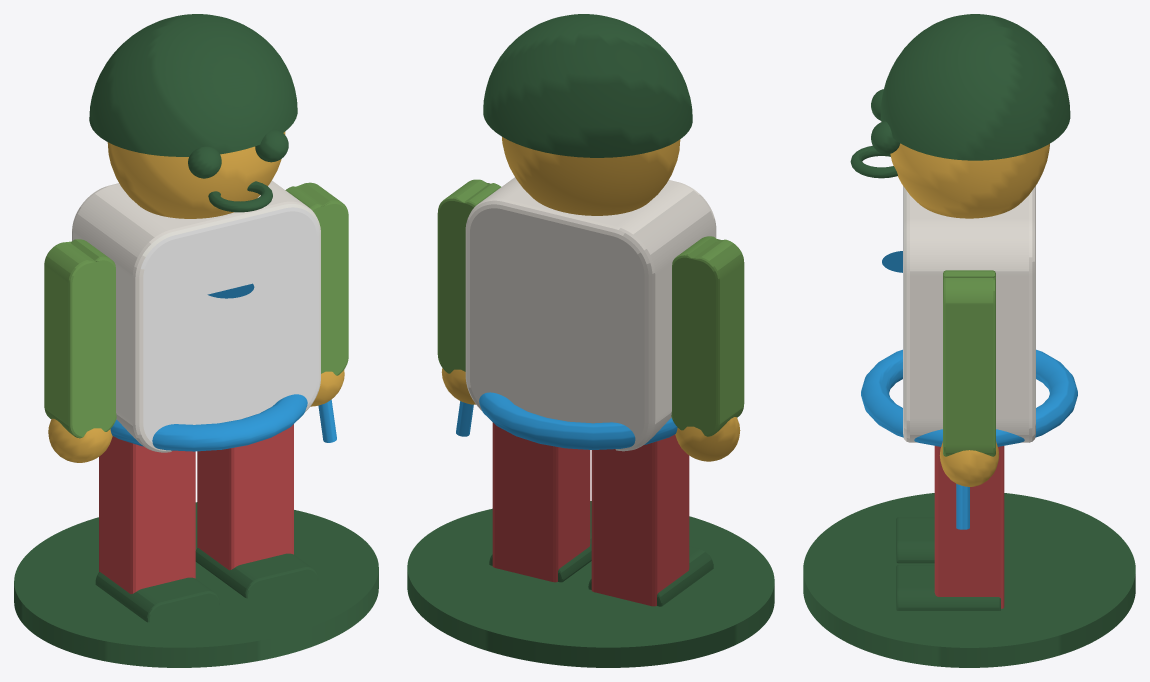
The model's file is 0373_欧洲文明图鉴_骑士比武场.glb.
The picture shows the model from 3 angles, left to right: view 1: azimuth 30°, elevation 25°; view 2: azimuth 150°, elevation 25°; view 3: azimuth 270°, elevation 25°; orthographic projection.
Visible parts, largest first — view 1: card_0373; view 2: card_0373; view 3: card_0373.
Boxes of the visible parts, left/top/right/bottom form: card_0373: left=14, top=14, right=378, bottom=667; card_0373: left=407, top=14, right=774, bottom=667; card_0373: left=803, top=14, right=1135, bottom=667.
Size of the model in its own units: 0.5843 by 1 by 0.5237.
